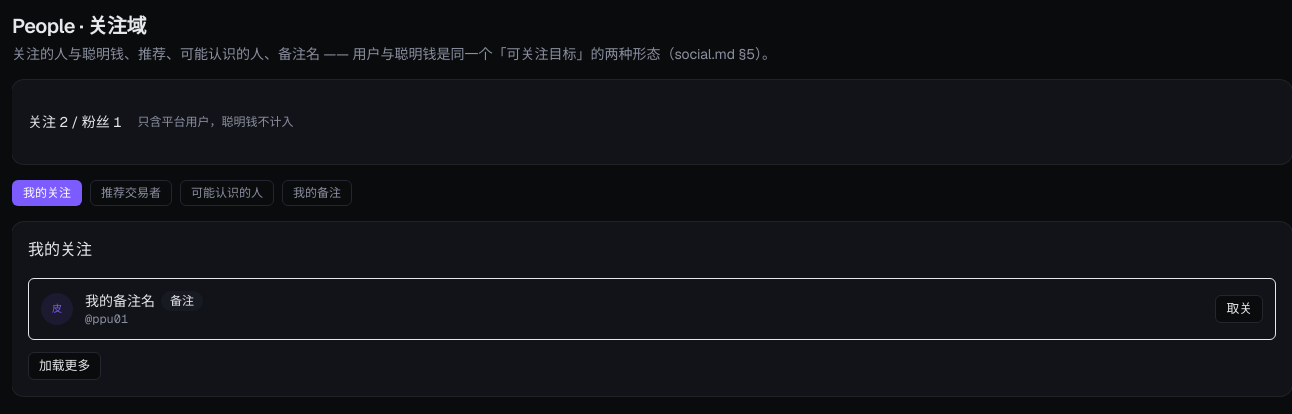
it: PeopleView 我的关注（混合列表） › 加载更多遇 100103：丢弃 cursor 重拉首屏（§1.4）
The width and height of the screenshot is (1292, 414).
Click the button "加载更多" at (65,366), box x1=28 y1=352 x2=101 y2=380
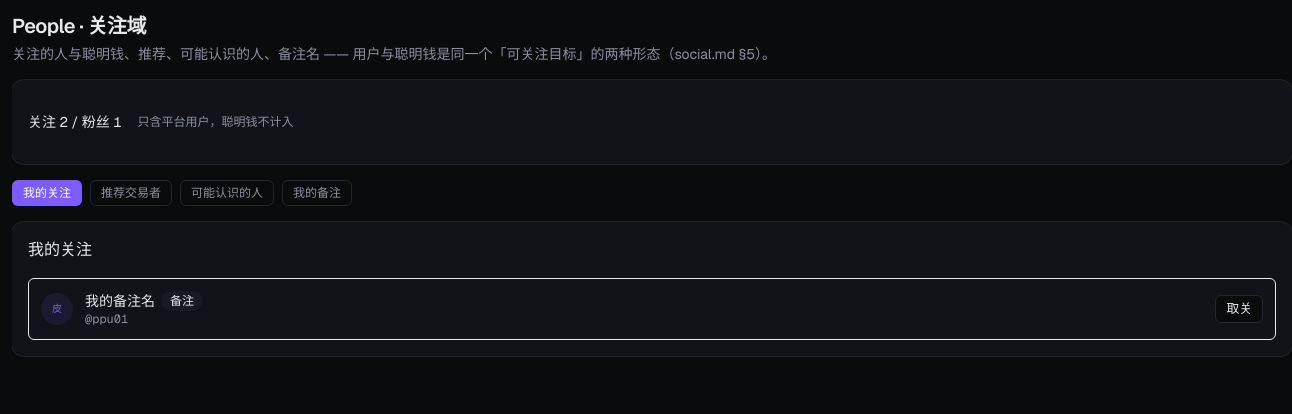
expect the button "加载更多" is gone: met
